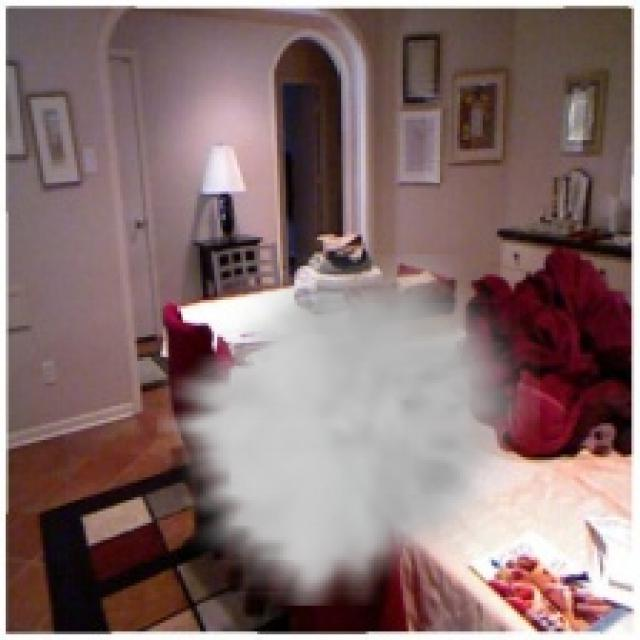smoke: (157, 254, 540, 606)
